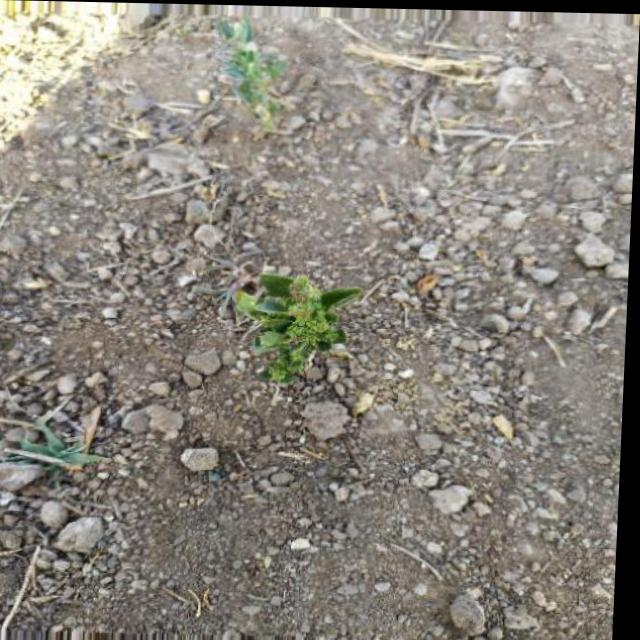weed: (245, 252, 363, 391)
